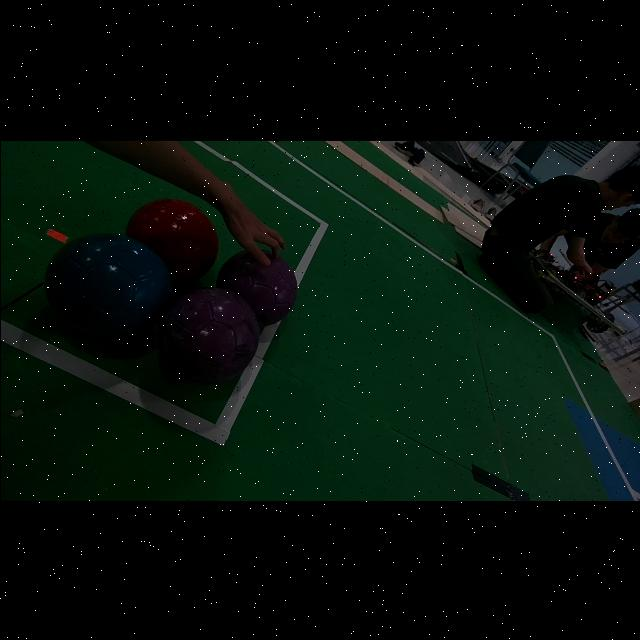B: (44, 233, 171, 337)
P: (158, 287, 259, 383), (216, 251, 296, 326)
R: (124, 198, 217, 283)
